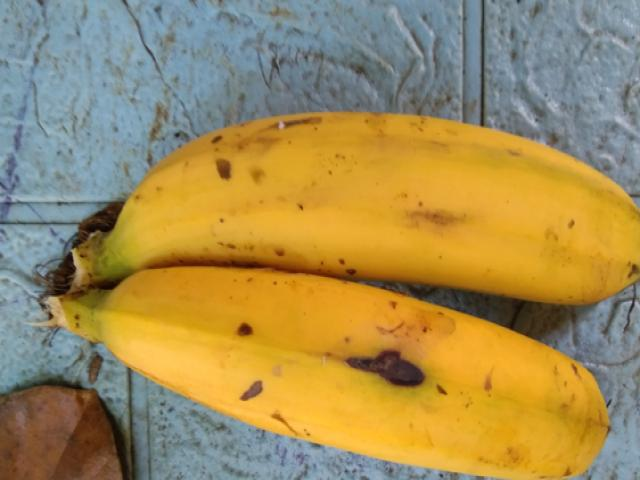freshripe: (101, 97, 639, 314)
ripe: (87, 258, 639, 479)
